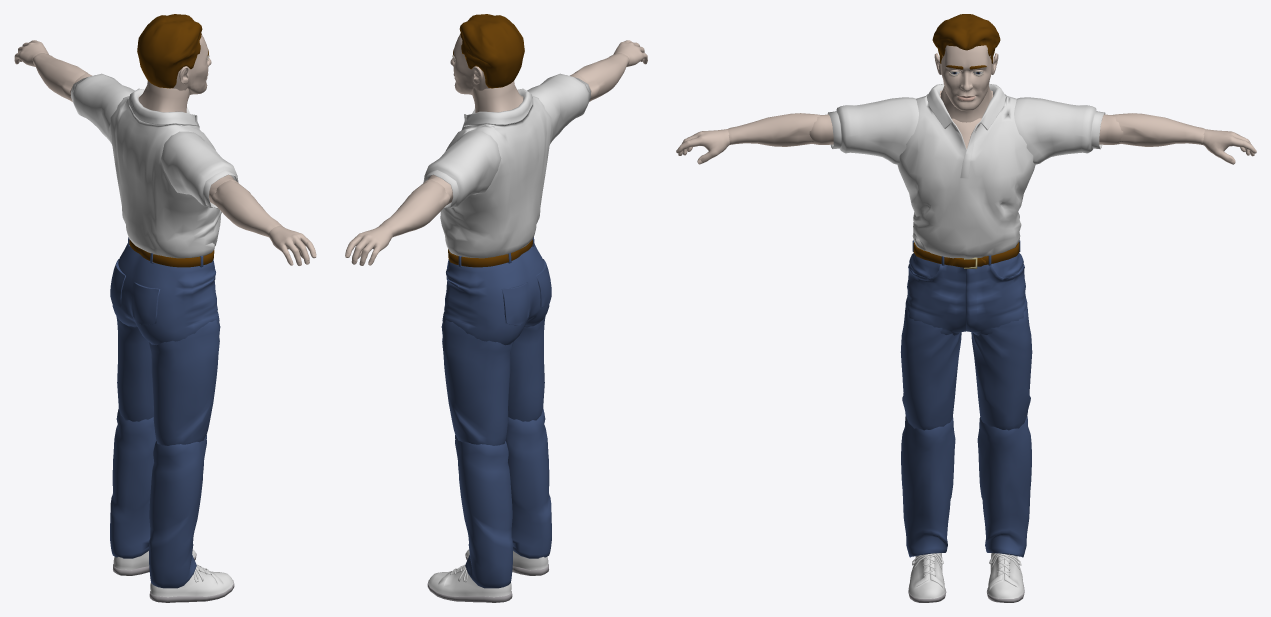
The model's file is man.dae.
3 views of the same model, side by side, from view 1: azimuth 30°, elevation 25°; view 2: azimuth 150°, elevation 25°; view 3: azimuth 270°, elevation 25° (orthographic).
Parts seen in each view (by area): view 1: ShapeIndexedFaceSet_001, ShapeIndexedFaceSet_040, ShapeIndexedFaceSet_039, ShapeIndexedFaceSet, ShapeIndexedFaceSet_034, ShapeIndexedFaceSet_015, ShapeIndexedFaceSet_033, ShapeIndexedFaceSet_027, ShapeIndexedFaceSet_021, ShapeIndexedFaceSet_029, ShapeIndexedFaceSet_049, ShapeIndexedFaceSet_042 (+8 smaller); view 2: ShapeIndexedFaceSet_001, ShapeIndexedFaceSet_034, ShapeIndexedFaceSet_033, ShapeIndexedFaceSet, ShapeIndexedFaceSet_040, ShapeIndexedFaceSet_015, ShapeIndexedFaceSet_039, ShapeIndexedFaceSet_021, ShapeIndexedFaceSet_027, ShapeIndexedFaceSet_023, ShapeIndexedFaceSet_049, ShapeIndexedFaceSet_036 (+8 smaller); view 3: ShapeIndexedFaceSet_001, ShapeIndexedFaceSet, ShapeIndexedFaceSet_040, ShapeIndexedFaceSet_034, ShapeIndexedFaceSet_033, ShapeIndexedFaceSet_039, ShapeIndexedFaceSet_021, ShapeIndexedFaceSet_027, ShapeIndexedFaceSet_004, ShapeIndexedFaceSet_029, ShapeIndexedFaceSet_023, ShapeIndexedFaceSet_015 (+5 smaller).
Boxes of the visible parts, <box> form: ShapeIndexedFaceSet_001: <box>109,88,221,258</box>; ShapeIndexedFaceSet_040: <box>149,435,206,588</box>; ShapeIndexedFaceSet_039: <box>148,320,220,445</box>; ShapeIndexedFaceSet: <box>112,243,219,345</box>; ShapeIndexedFaceSet_034: <box>110,409,156,558</box>; ShapeIndexedFaceSet_015: <box>137,14,202,88</box>; ShapeIndexedFaceSet_033: <box>116,316,153,421</box>; ShapeIndexedFaceSet_027: <box>160,131,238,207</box>; ShapeIndexedFaceSet_021: <box>72,73,134,143</box>; ShapeIndexedFaceSet_029: <box>211,180,282,237</box>; ShapeIndexedFaceSet_049: <box>110,259,160,325</box>; ShapeIndexedFaceSet_042: <box>150,565,233,597</box>; ShapeIndexedFaceSet_001: <box>440,88,552,258</box>; ShapeIndexedFaceSet_034: <box>455,435,512,588</box>; ShapeIndexedFaceSet_033: <box>441,320,513,445</box>; ShapeIndexedFaceSet: <box>442,244,549,345</box>; ShapeIndexedFaceSet_040: <box>505,409,551,558</box>; ShapeIndexedFaceSet_015: <box>459,14,524,88</box>; ShapeIndexedFaceSet_039: <box>508,316,545,421</box>; ShapeIndexedFaceSet_021: <box>423,131,501,207</box>; ShapeIndexedFaceSet_027: <box>527,73,589,143</box>; ShapeIndexedFaceSet_023: <box>379,180,450,237</box>; ShapeIndexedFaceSet_049: <box>501,259,551,325</box>; ShapeIndexedFaceSet_036: <box>428,565,511,597</box>; ShapeIndexedFaceSet_001: <box>897,83,1035,258</box>; ShapeIndexedFaceSet: <box>905,252,1027,335</box>; ShapeIndexedFaceSet_040: <box>901,415,955,557</box>; ShapeIndexedFaceSet_034: <box>977,416,1031,557</box>; ShapeIndexedFaceSet_033: <box>971,307,1032,430</box>; ShapeIndexedFaceSet_039: <box>900,307,961,430</box>; ShapeIndexedFaceSet_021: <box>1014,97,1096,164</box>; ShapeIndexedFaceSet_027: <box>836,97,918,164</box>; ShapeIndexedFaceSet_004: <box>934,45,998,110</box>; ShapeIndexedFaceSet_029: <box>727,113,820,146</box>; ShapeIndexedFaceSet_023: <box>1112,113,1205,146</box>; ShapeIndexedFaceSet_015: <box>932,14,1000,63</box>.
Size of the model in its own units: 55.58 by 315 by 341.
